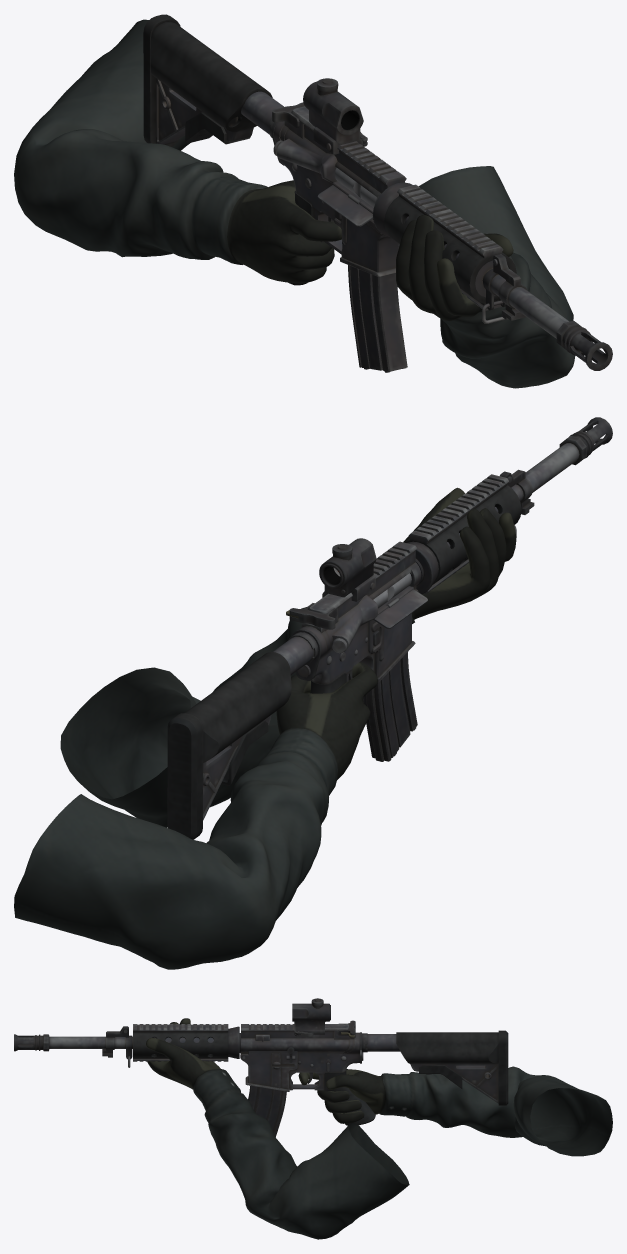
Rendered from gun_000143.obj.
3 views of the same model, one above another, from view 1: azimuth 30°, elevation 25°; view 2: azimuth 150°, elevation 25°; view 3: azimuth 270°, elevation 25° (orthographic). The views are drawn at different scales.
Parts seen in each view (by area): view 1: armmesh_arms_0, base_carbine_0, clip_carbine_0, scope_carbine_0, lid_carbine_0, bolt_carbine_0; view 2: armmesh_arms_0, base_carbine_0, clip_carbine_0, scope_carbine_0, lid_carbine_0, handle_carbine_0; view 3: armmesh_arms_0, base_carbine_0, scope_carbine_0, clip_carbine_0.
Boxes of the visible parts, x1=… form: armmesh_arms_0: x1=14, y1=19, x2=575, y2=388; base_carbine_0: x1=143, y1=14, x2=612, y2=370; clip_carbine_0: x1=348, y1=265, x2=407, y2=372; scope_carbine_0: x1=303, y1=78, x2=367, y2=154; lid_carbine_0: x1=317, y1=185, x2=372, y2=226; bolt_carbine_0: x1=335, y1=168, x2=376, y2=207; armmesh_arms_0: x1=14, y1=487, x2=516, y2=969; base_carbine_0: x1=167, y1=417, x2=612, y2=839; clip_carbine_0: x1=363, y1=652, x2=417, y2=761; scope_carbine_0: x1=319, y1=538, x2=376, y2=601; lid_carbine_0: x1=373, y1=589, x2=427, y2=628; handle_carbine_0: x1=289, y1=603, x2=337, y2=629; armmesh_arms_0: x1=146, y1=1018, x2=612, y2=1239; base_carbine_0: x1=14, y1=1024, x2=508, y2=1125; scope_carbine_0: x1=292, y1=998, x2=330, y2=1036; clip_carbine_0: x1=248, y1=1085, x2=286, y2=1137.
Bounding box in the file's own units: 45.26 × 41.77 × 122.
